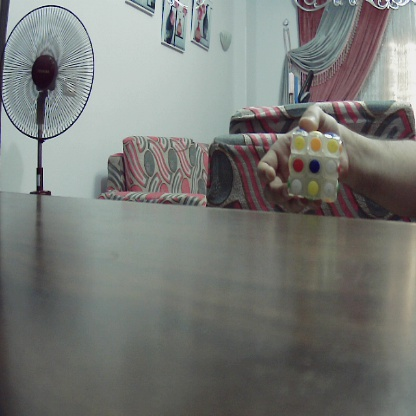Rubix Cube: (289, 133, 339, 201)
